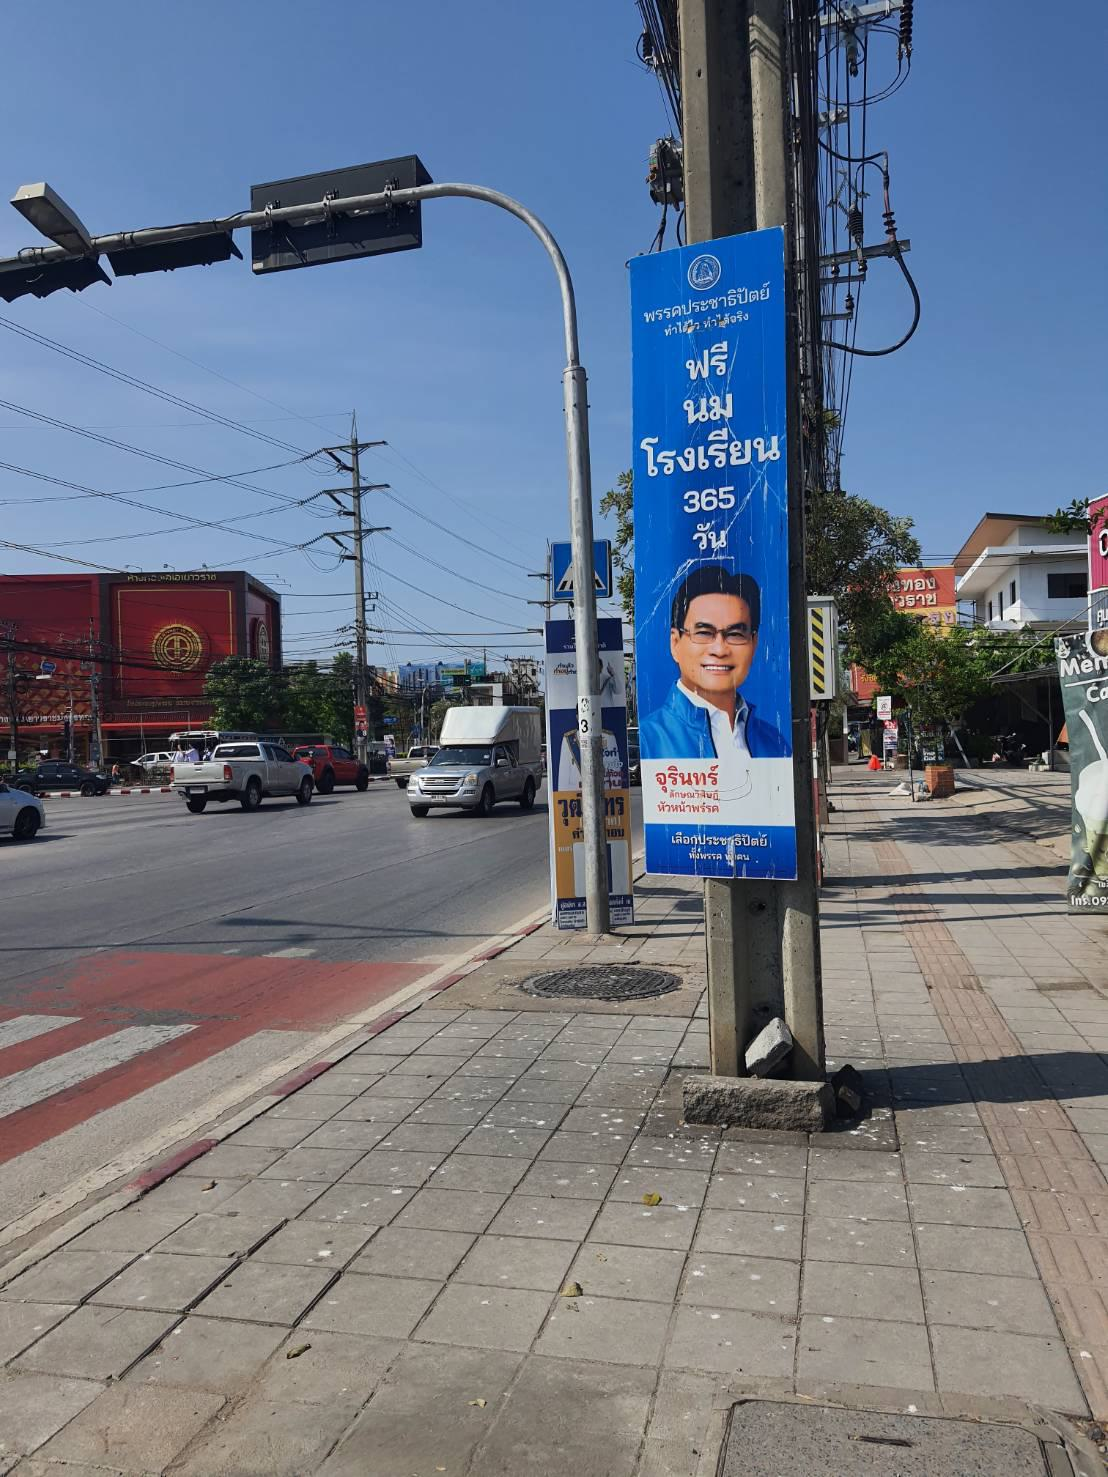Banner: (628, 227, 801, 890)
